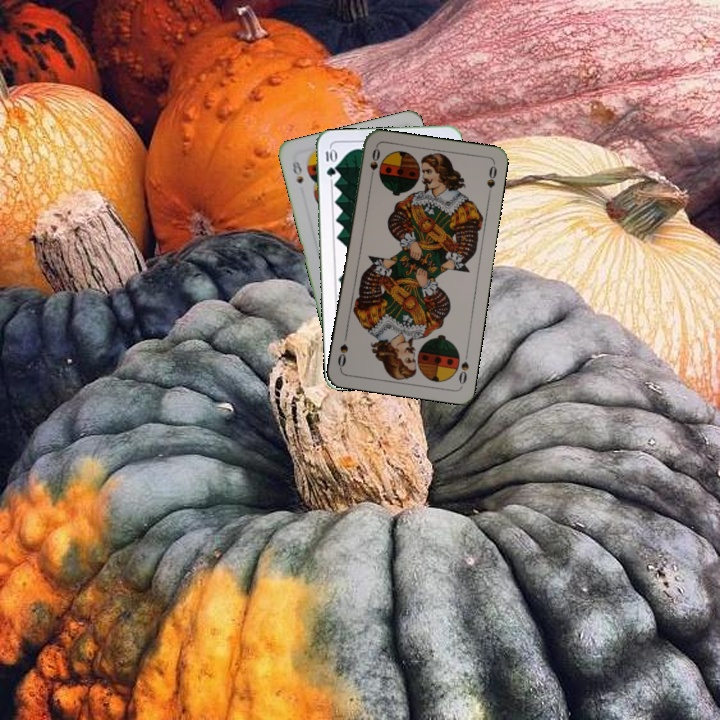G10: (322, 145, 338, 179)
S8: (288, 157, 306, 186)
SO: (455, 348, 472, 387), (366, 144, 382, 185)
